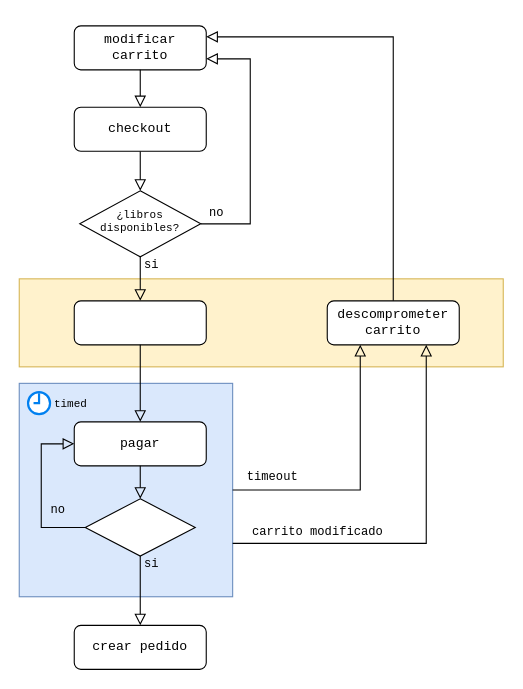
This 523x689 diagram has some shape labels left out. The box of each missing label's shape, as (x1, y1, x2, y2) in pixels:
comprometer carrito: (73, 300, 206, 345)
transactional: (18, 278, 503, 367)
¿pago correcto?: (84, 498, 195, 556)
